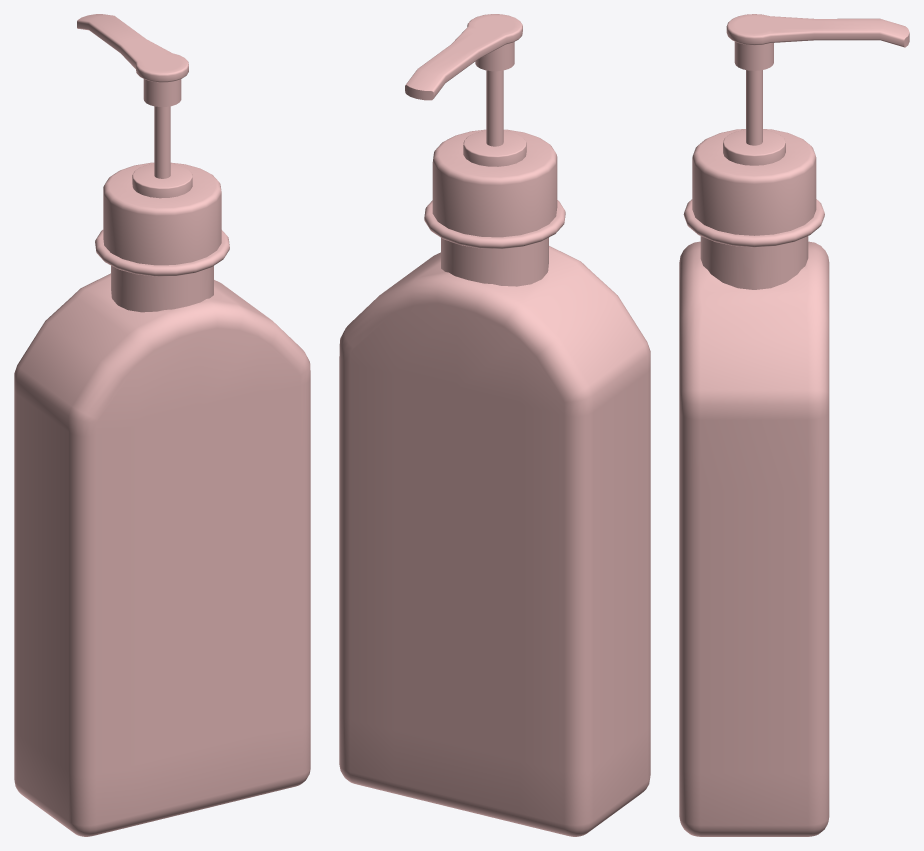
The picture shows the model from 3 angles, left to right: view 1: azimuth 30°, elevation 25°; view 2: azimuth 150°, elevation 25°; view 3: azimuth 270°, elevation 25°; orthographic projection. The views are drawn at different scales.
Visible parts, largest first — view 1: Object_2; view 2: Object_2; view 3: Object_2.
Part boxes in pixels (x1,y1,x2,y2): Object_2: (14, 14, 310, 836); Object_2: (339, 14, 650, 836); Object_2: (679, 14, 909, 836).
Size of the model in its own units: 0.3442 by 1 by 0.2754.
